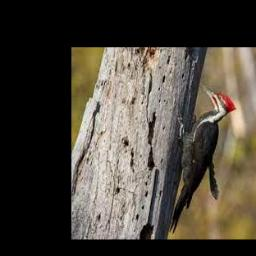Woodpecker: (169, 83, 236, 233)
